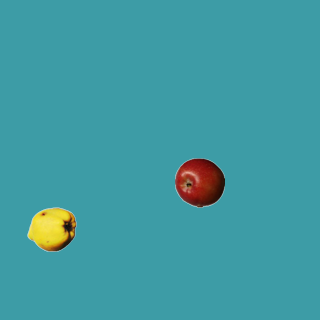Apple Braeburn: (174, 157, 224, 207)
Quince: (26, 204, 76, 254)
